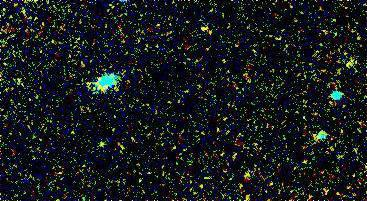star: (85, 129, 115, 159)
